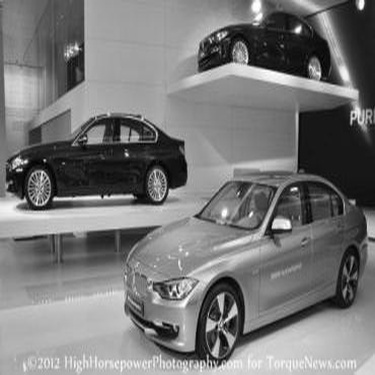car: (114, 163, 373, 362), (6, 108, 189, 208), (180, 5, 335, 92)
